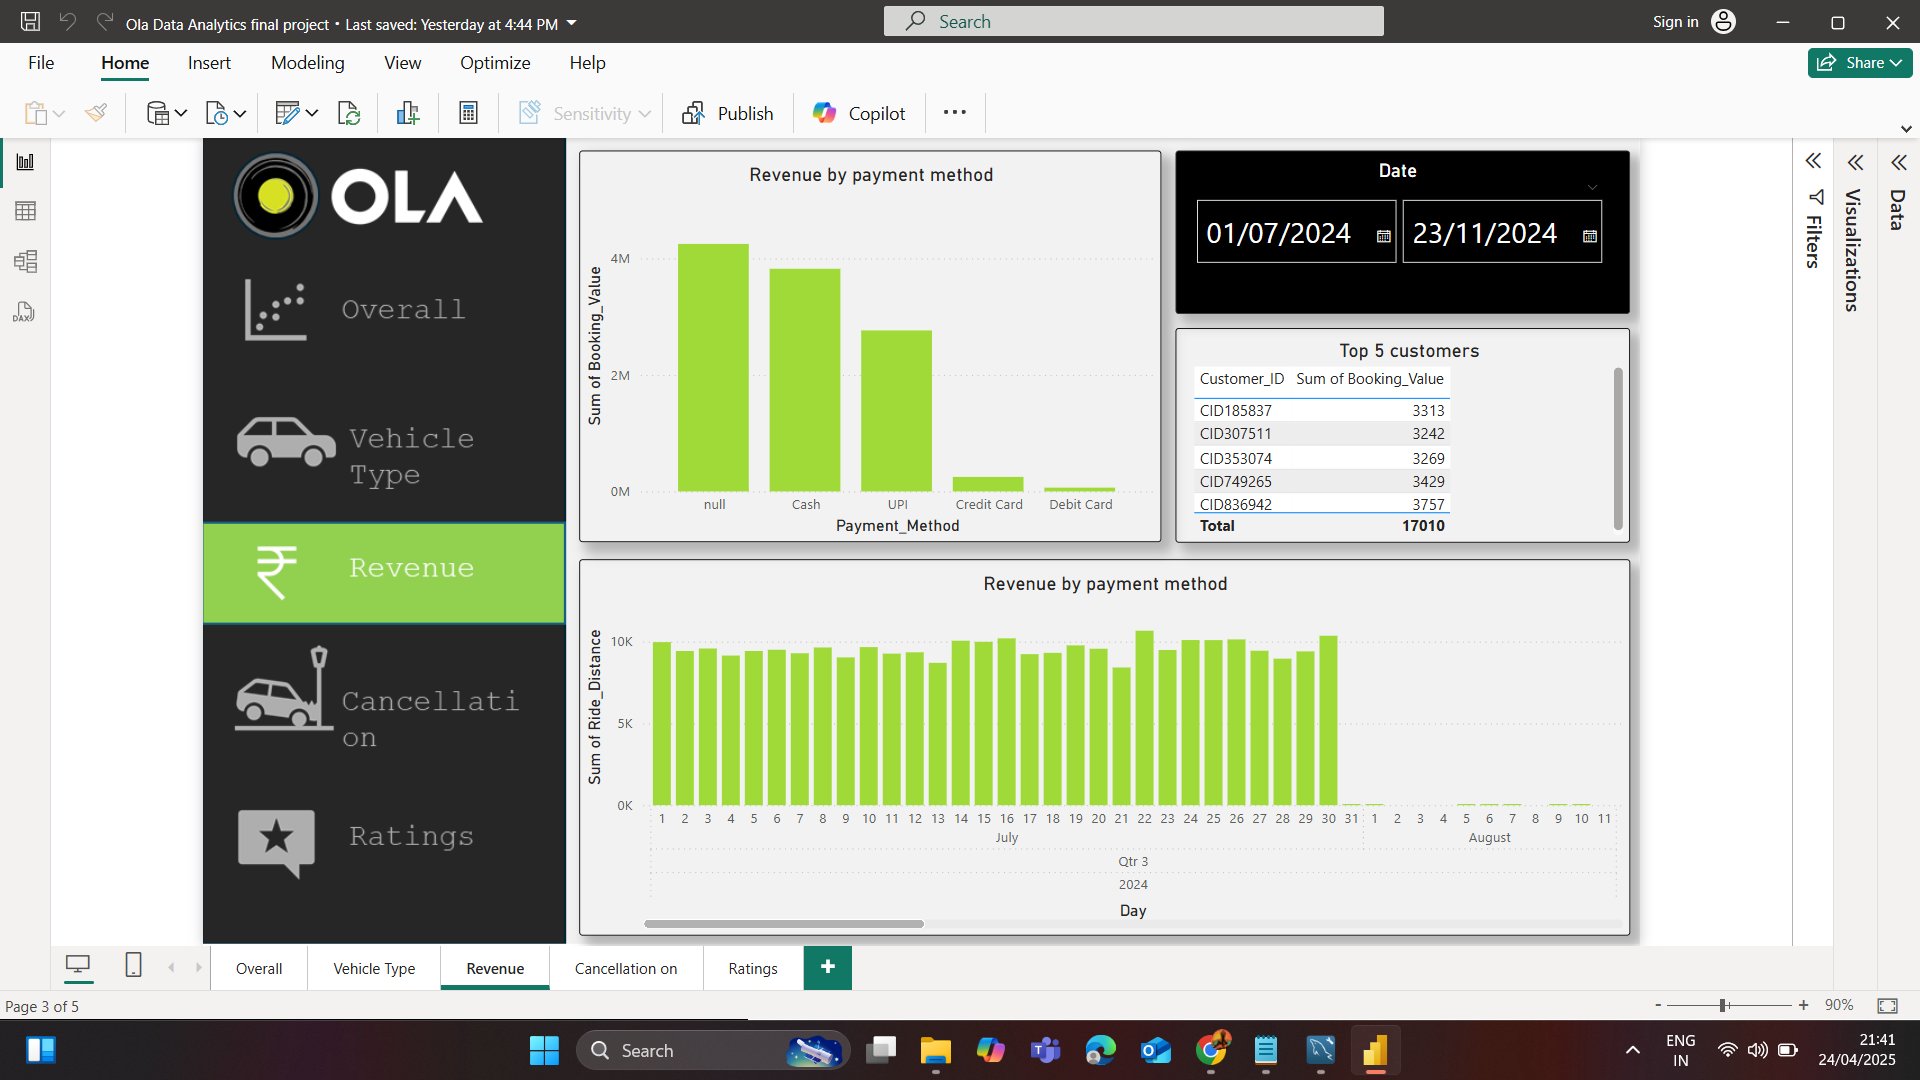

The dashboard page shown, as its layout file describes it:
{"tool":"powerbi","page":{"name":"Revenue","canvas":[1280,720],"ordinal":2},"visuals":[{"type":"actionButton","box":[0,111,324.5,89.3],"z":0},{"type":"actionButton","box":[0,232.8,324.5,89.3],"z":1000},{"type":"actionButton","box":[0,451.2,324.5,89.3],"z":2000},{"type":"actionButton","box":[0,581.5,324.5,89.3],"z":3000},{"type":"columnChart","title":"Revenue by payment method","fields":{"Category":["ola1.Payment_Method"],"Y":["Sum(ola1.Booking_Value)"]},"box":[334.8,11,518.7,348.5],"z":4000},{"type":"columnChart","title":"Revenue by payment method","fields":{"Y":["Sum(ola1.Ride_Distance)"],"Category":["ola1.Date.Variation.Date Hierarchy.Year","ola1.Date.Variation.Date Hierarchy.Quarter","ola1.Date.Variation.Date Hierarchy.Month","ola1.Date.Variation.Date Hierarchy.Day"]},"box":[334.8,374.6,935.9,334.8],"z":5000},{"type":"slicer","title":"Date","fields":{"Values":["ola1.Date"]},"box":[865.9,11,404.8,145.5],"z":6000},{"type":"tableEx","title":"Top 5 customers","fields":{"Values":["ola1.Customer_ID","Sum(ola1.Booking_Value)"]},"box":[866.2,168.8,405,191.2],"z":7000}]}

Visuals, with their boxes on the page's 1280x720 design canvas (x1, y1, x2, y2). These are canvas units, not pixel positions in the 1920x1080 screenshot, which may show the page scaled, cropped or inside an application window:
actionButton: 0 111 324 200
actionButton: 0 233 324 322
actionButton: 0 451 324 540
actionButton: 0 582 324 671
"Revenue by payment method" columnChart: 335 11 854 360
"Revenue by payment method" columnChart: 335 375 1271 709
"Date" slicer: 866 11 1271 156
"Top 5 customers" tableEx: 866 169 1271 360
